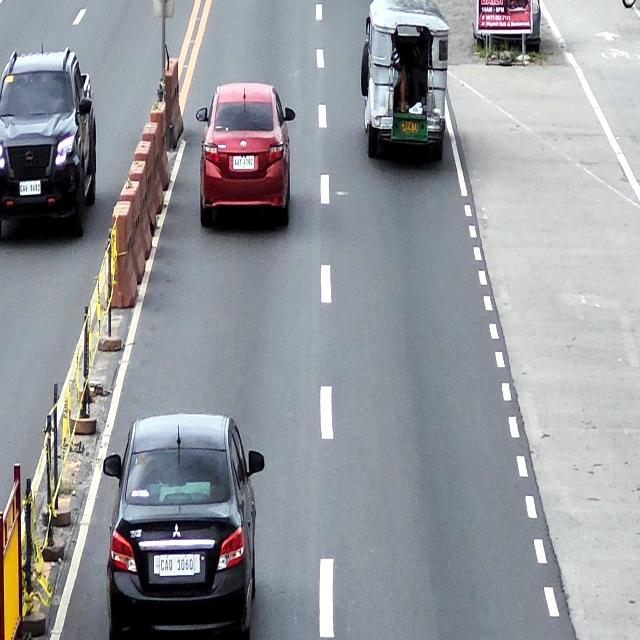Car: (104, 411, 264, 640), (0, 48, 97, 241), (196, 82, 295, 229)
Jeep: (361, 0, 449, 165)
License-Plate: (160, 556, 194, 576), (19, 180, 41, 197), (232, 155, 255, 169), (399, 121, 420, 134)
